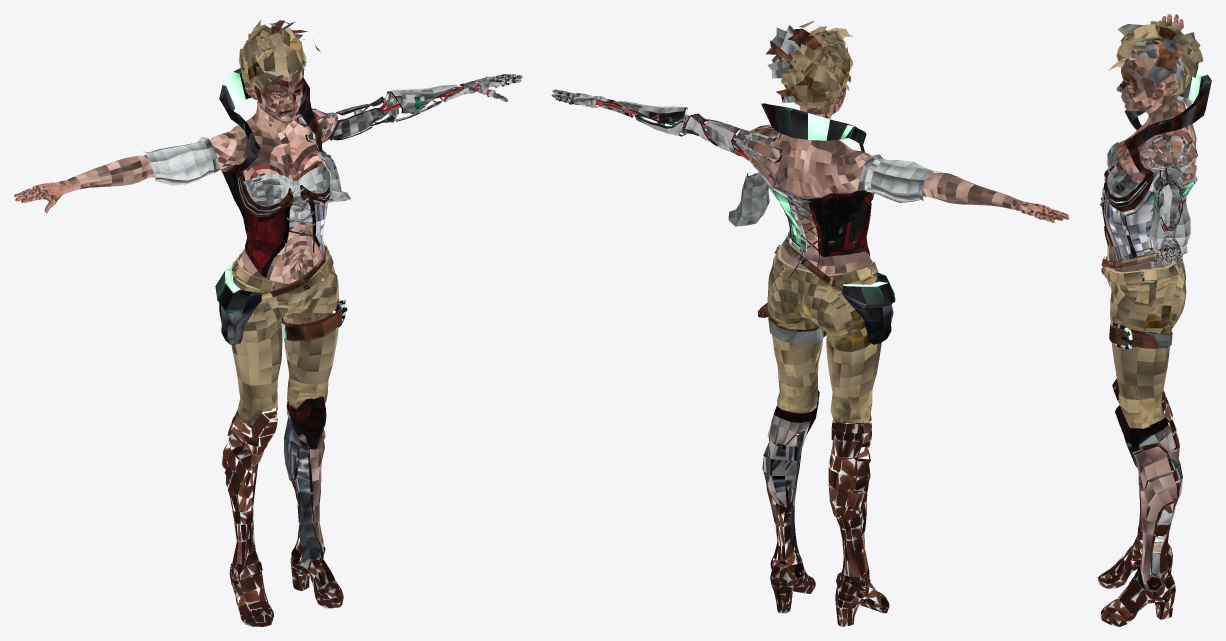
The model's file is Medea_Push_Up.gltf.
The picture shows the model from 3 angles, left to right: view 1: azimuth 30°, elevation 25°; view 2: azimuth 150°, elevation 25°; view 3: azimuth 270°, elevation 25°; orthographic projection. The views are drawn at different scales.
Parts seen in each view (by area): view 1: Mdea_mesh; view 2: Mdea_mesh; view 3: Mdea_mesh.
Boxes of the visible parts, x1,y1,x2,y2 form: Mdea_mesh: [14, 20, 522, 626]; Mdea_mesh: [551, 21, 1069, 626]; Mdea_mesh: [1098, 14, 1211, 626].
Bounding box in the file's own units: 15.02 × 16.51 × 2.88.
1 material, 1 textured.
